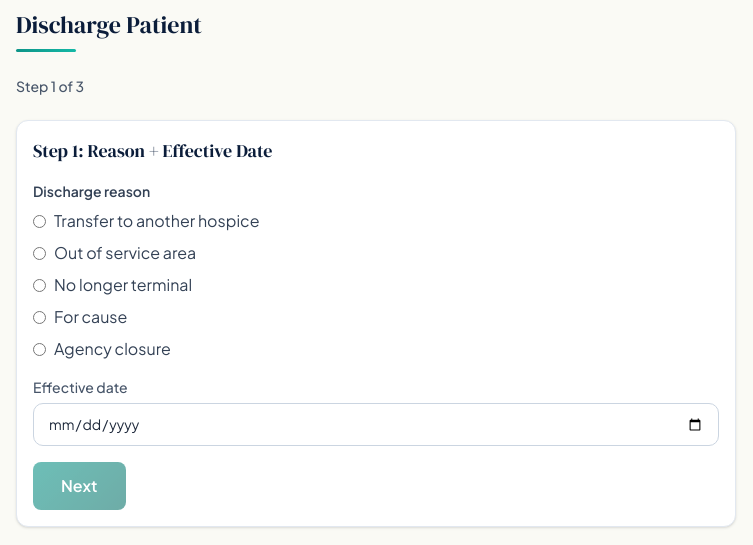
Test: HospiceDischargeWizard › disables Submit with a permission tooltip when the user lacks hospice:discharge_manage
Click the radio button labelled "Transfer to another hospice" at (40, 221), box [33,214,46,228]
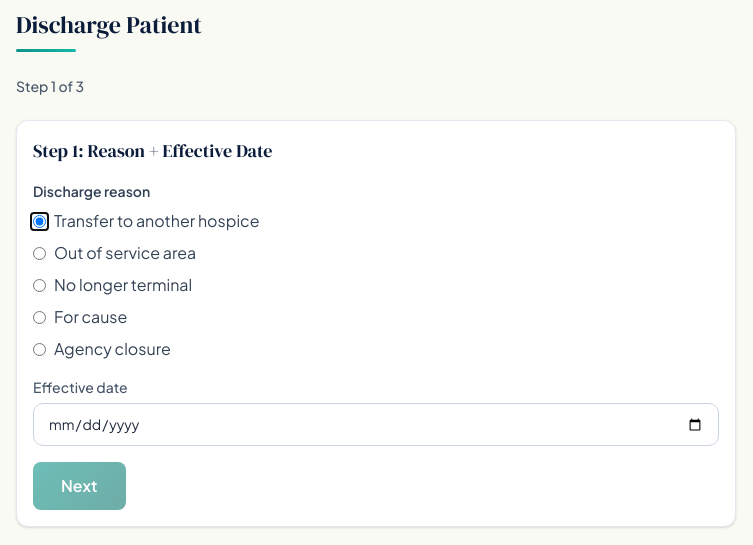
Type "2026-02-01" into the date field labelled "Effective date" at (376, 424), box [33,403,719,446]
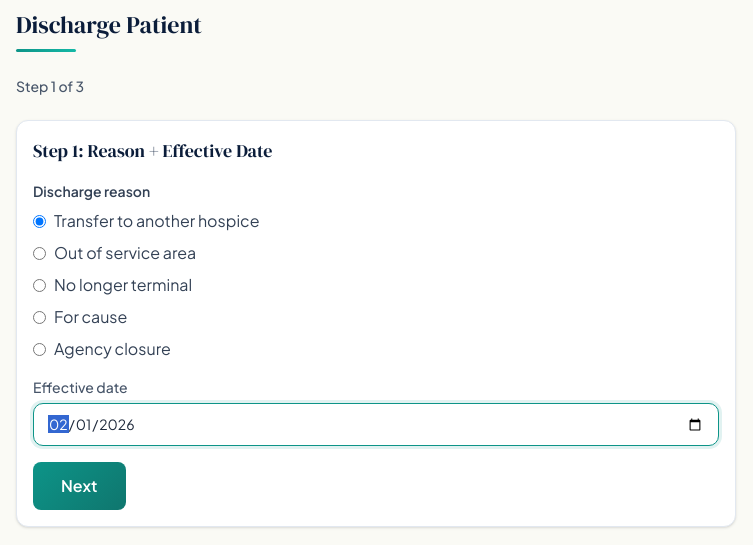
Click the button "Next" at (79, 486), box [33,462,126,510]
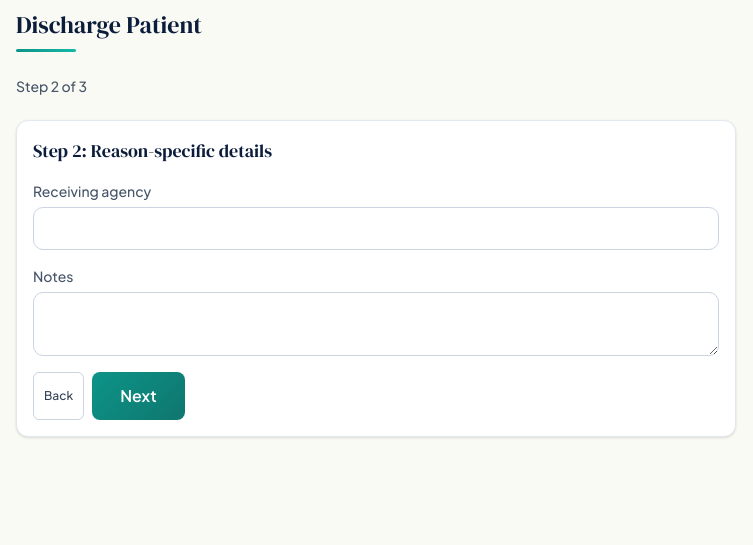
Click the button "Next" at (138, 396), box [92,372,185,420]
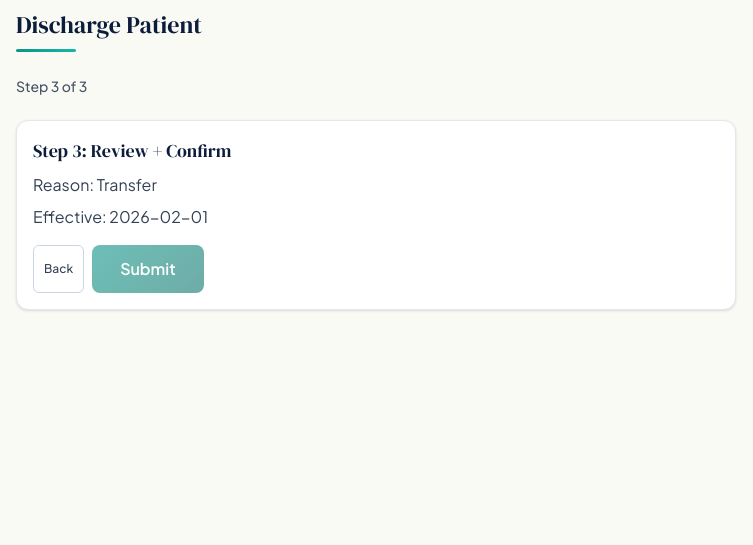
Expected: the button "Submit" is disabled, [92,245,204,293]
